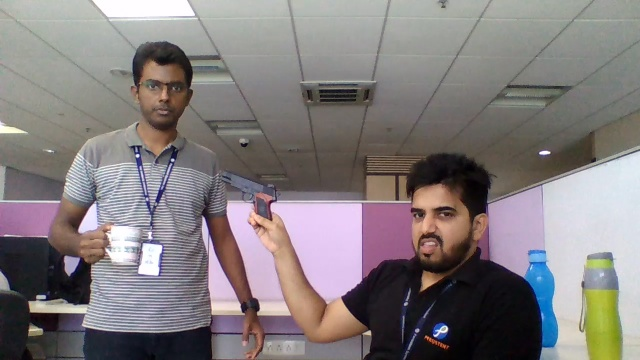gun: (221, 168, 281, 205)
